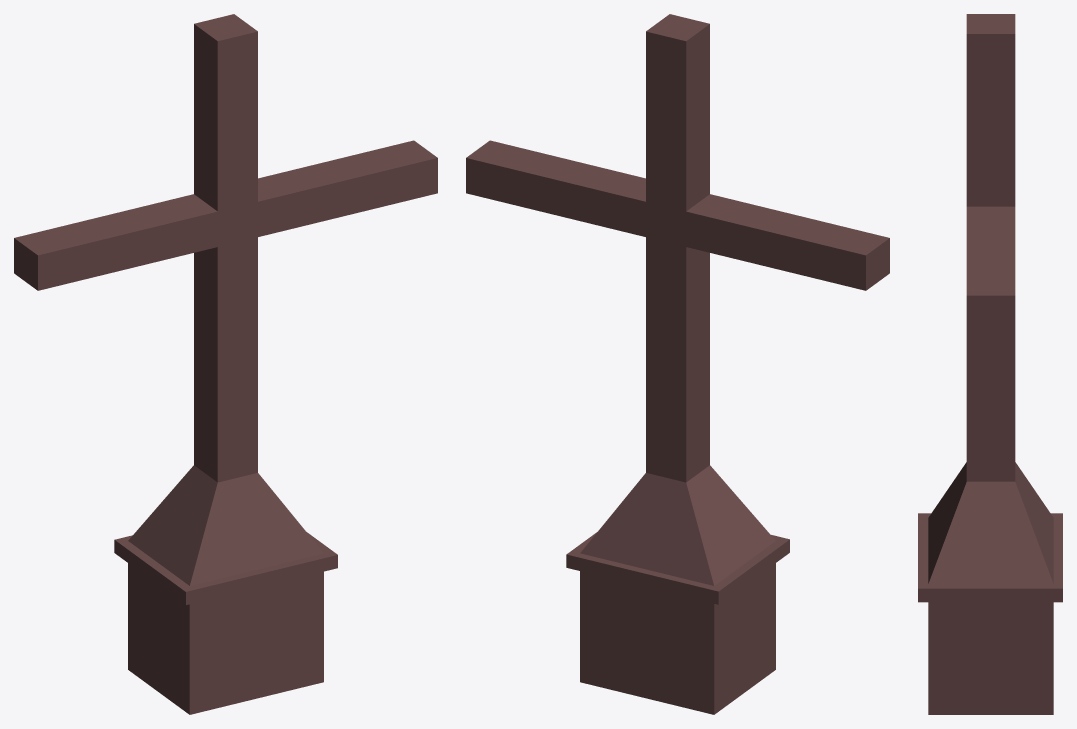
File: Cross.FBX
3 renders of one model, left to right at view 1: azimuth 30°, elevation 25°; view 2: azimuth 150°, elevation 25°; view 3: azimuth 270°, elevation 25°, orthographic.
Visible parts, largest first — view 1: Box027; view 2: Box027; view 3: Box027.
Part boxes in pixels (<box>): Box027: <box>14,14,437,714</box>; Box027: <box>466,14,889,714</box>; Box027: <box>918,14,1062,714</box>.
Bounding box in the file's own units: 48.21 × 74.69 × 14.9.
